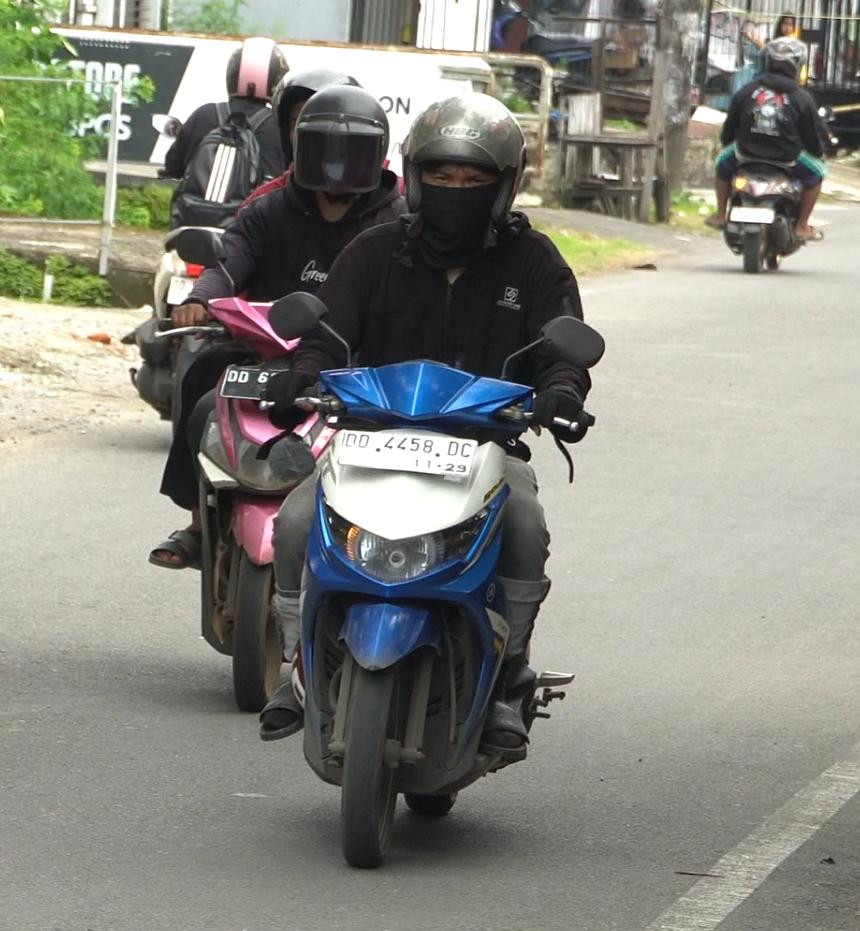number-plate: (335, 428, 483, 479)
